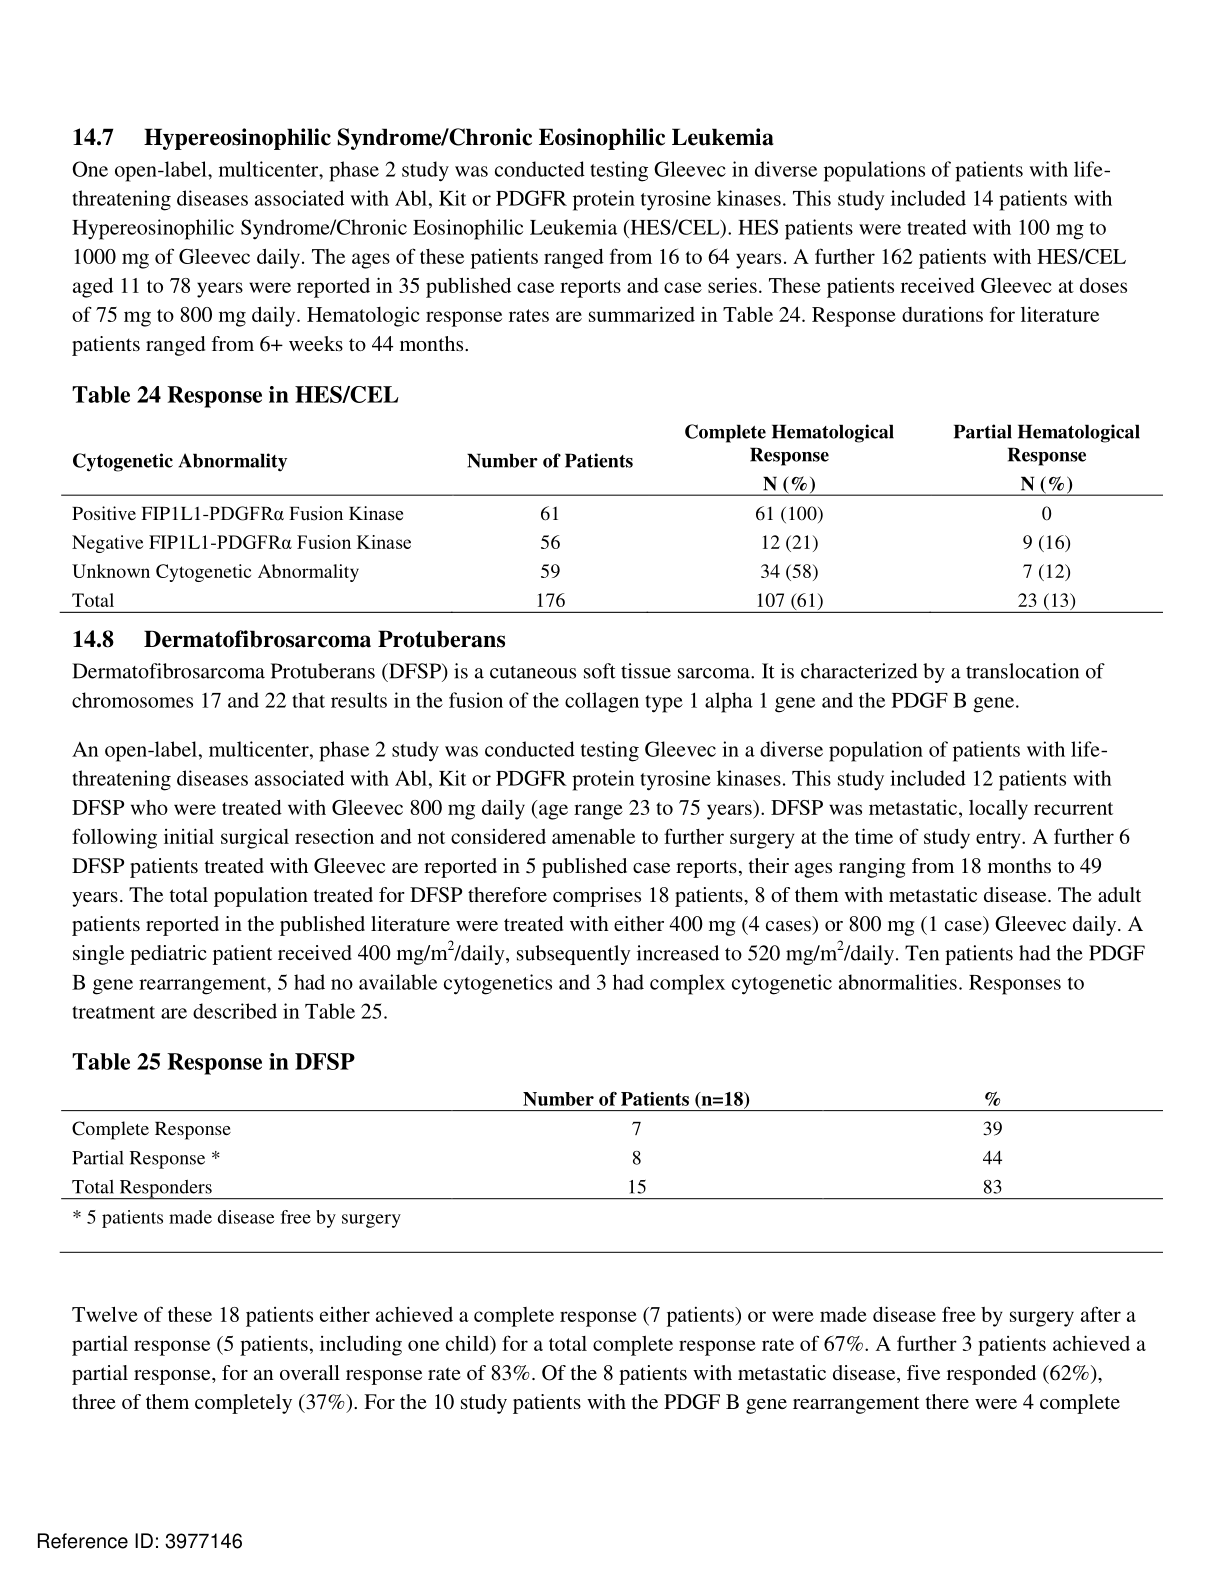partial_lined: (58, 414, 1165, 616), (60, 1083, 1165, 1201)
